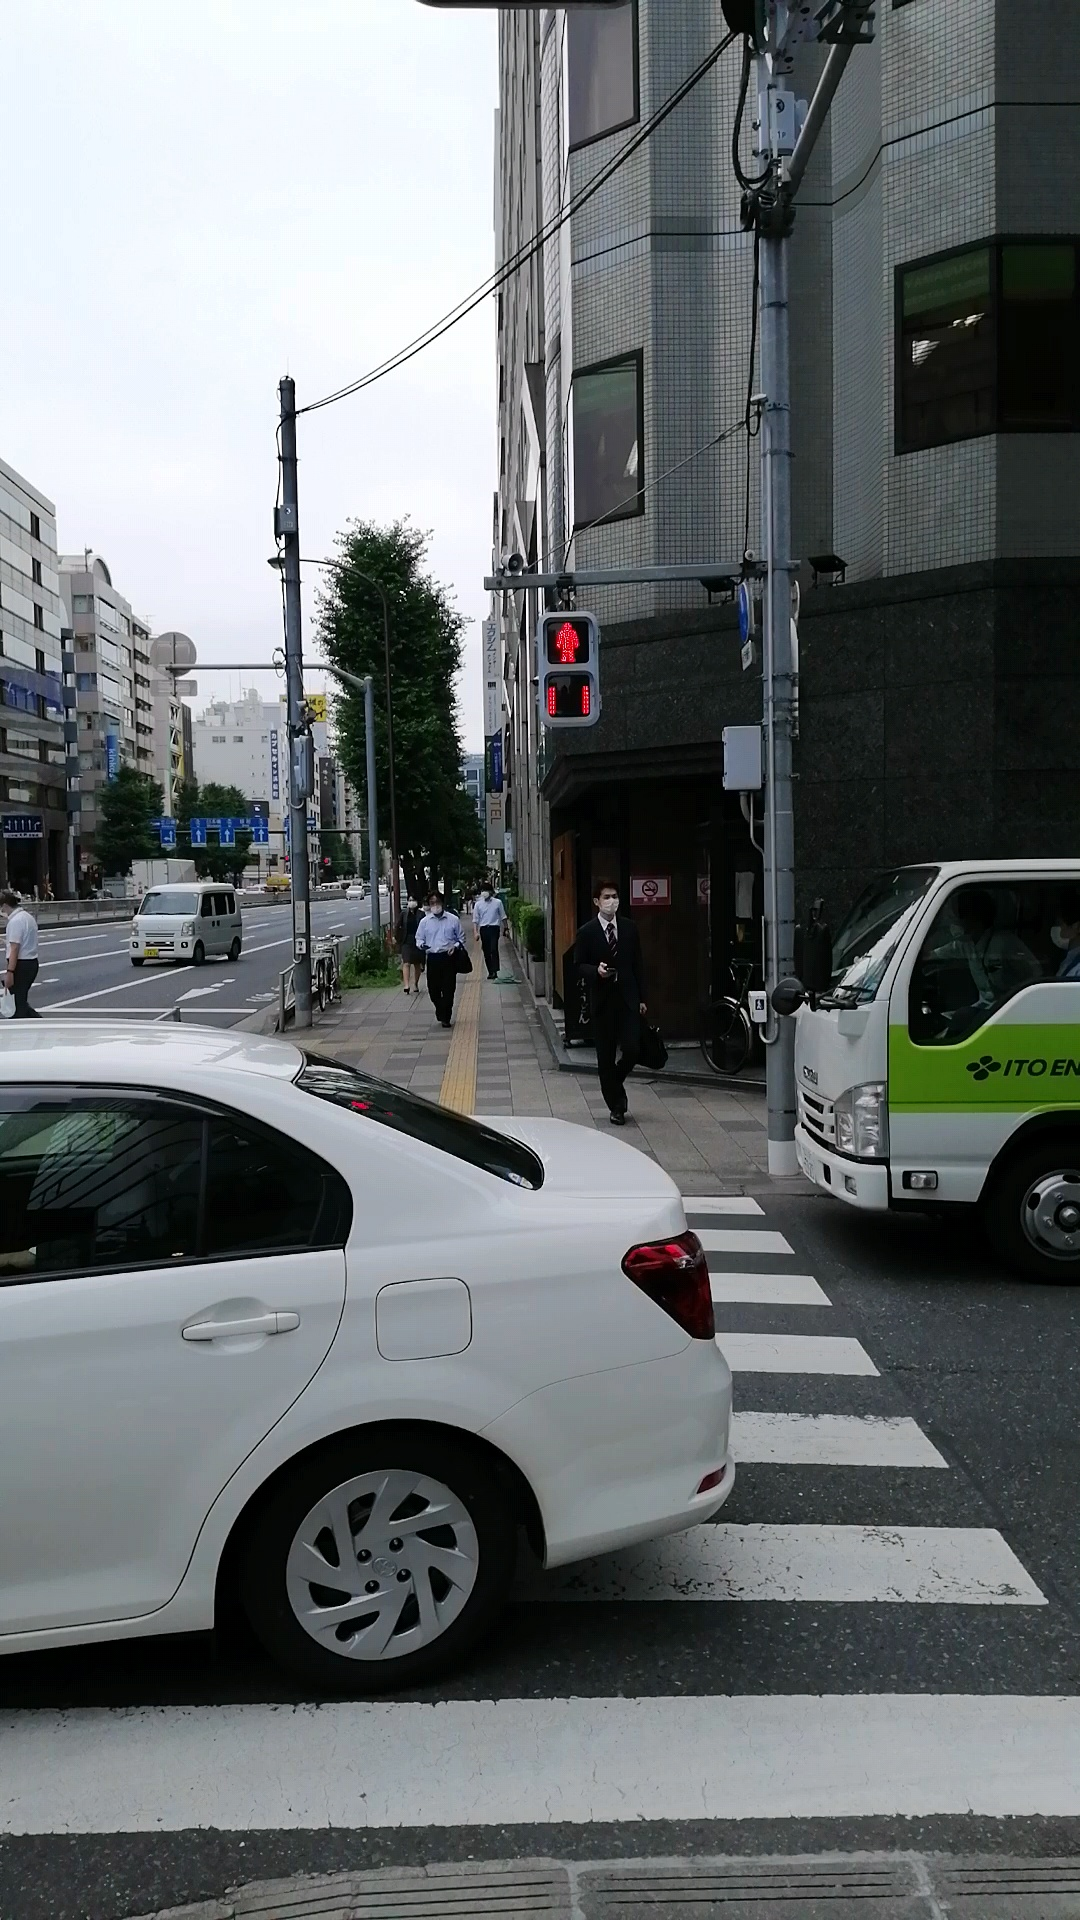red: (535, 613, 599, 725)
